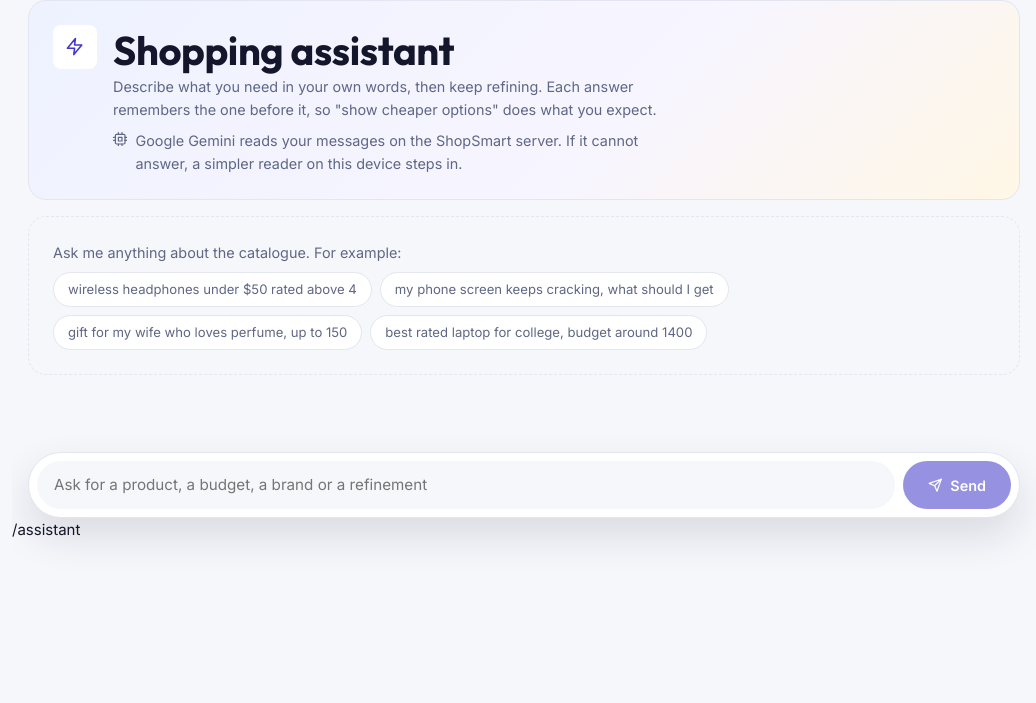
Shopping assistant › answers on the device and says why when Gemini is unavailable
The image size is (1036, 703).
Type "apple laptops" into the field named "Message the shopping assistant" at (466, 485), box left=37, top=461, right=895, bottom=510
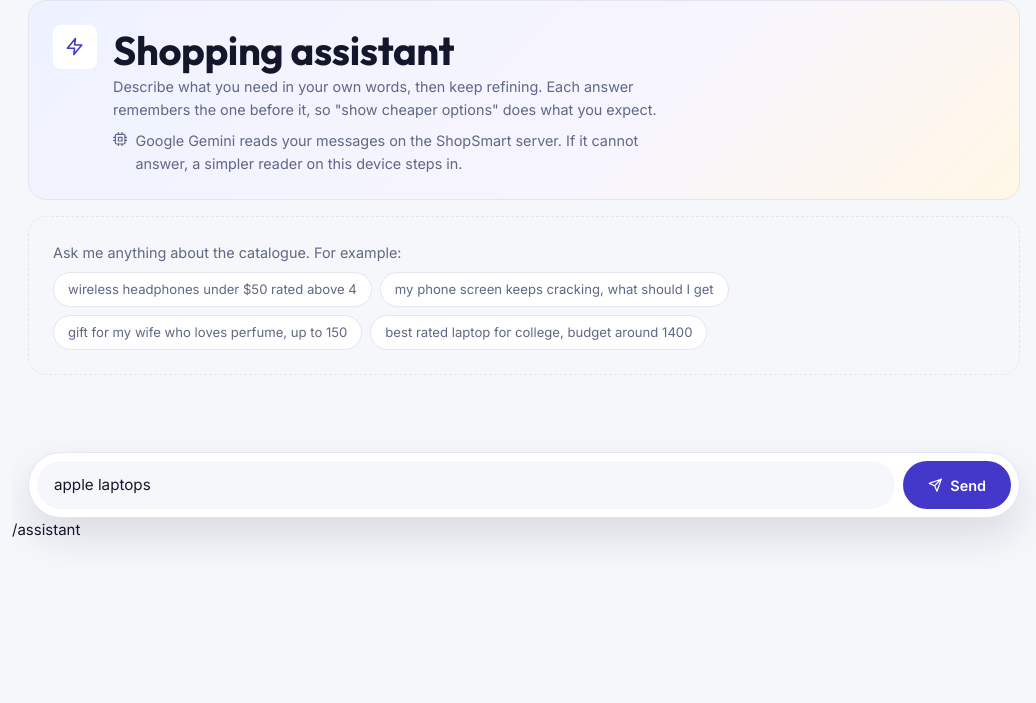
Click the button "Send" at (957, 485), box left=903, top=461, right=1011, bottom=510
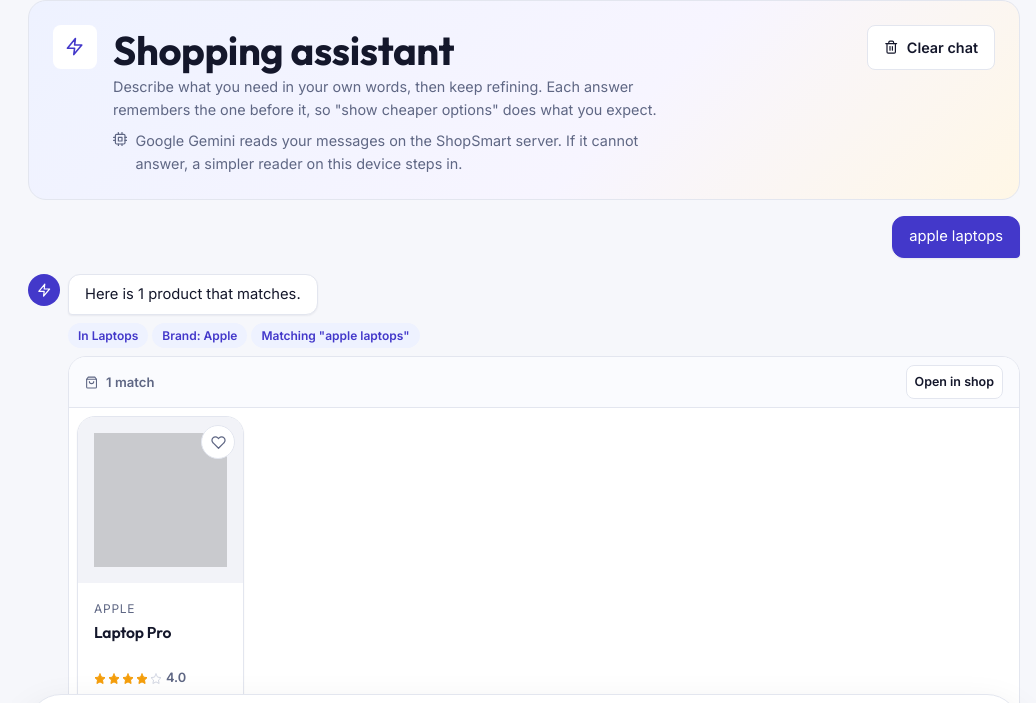
Result: the heading "Laptop Pro" is shown at left=94, top=622, right=171, bottom=642
Result: the list item "Brand: Apple" is shown at left=152, top=323, right=248, bottom=348
Result: the text "Here is 1 product that matches." is shown at left=68, top=274, right=318, bottom=315
